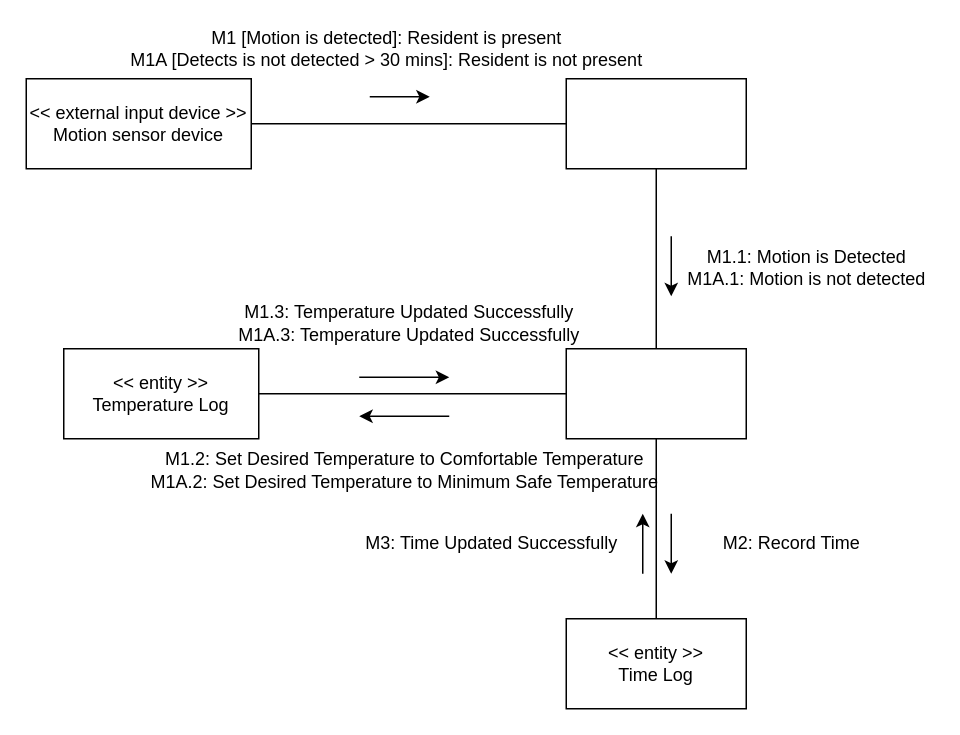
Some shapes in this 960 by 735 pixel diagram are drawn without their labels. The centre of each missing label's shape, as x and y in pixels:
"<< input >> Motion Sensor interface" belongs at pixel 655 123.
"<< state dependent control >> smart home system" belongs at pixel 655 393.
